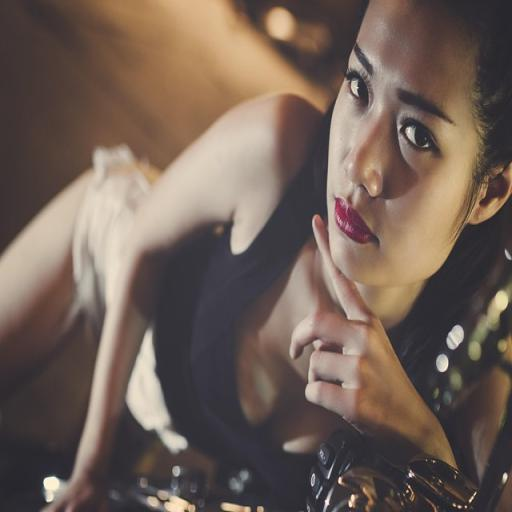lipstick: (335, 199, 374, 243)
